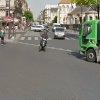Motorcycle: (33, 27, 52, 54)
